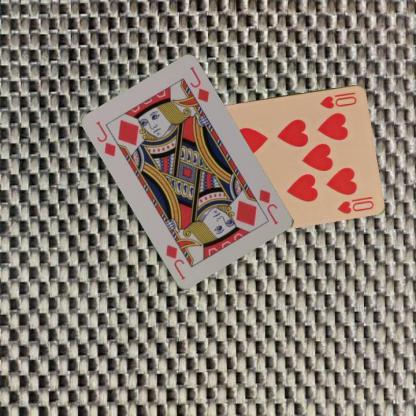10h: (317, 89, 358, 110)
Jd: (93, 118, 118, 158), (256, 187, 280, 226)
